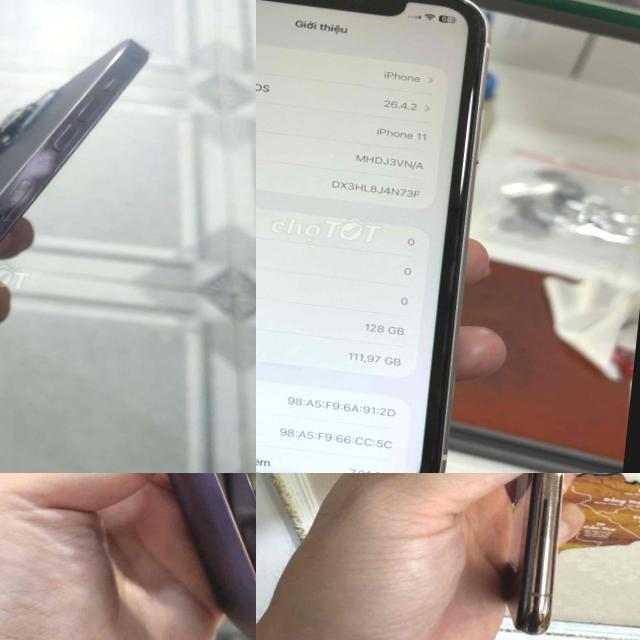gen_11: (256, 0, 505, 473)
gen_14: (0, 473, 256, 640), (0, 39, 147, 243)
gen_x_xs: (508, 473, 563, 634)
